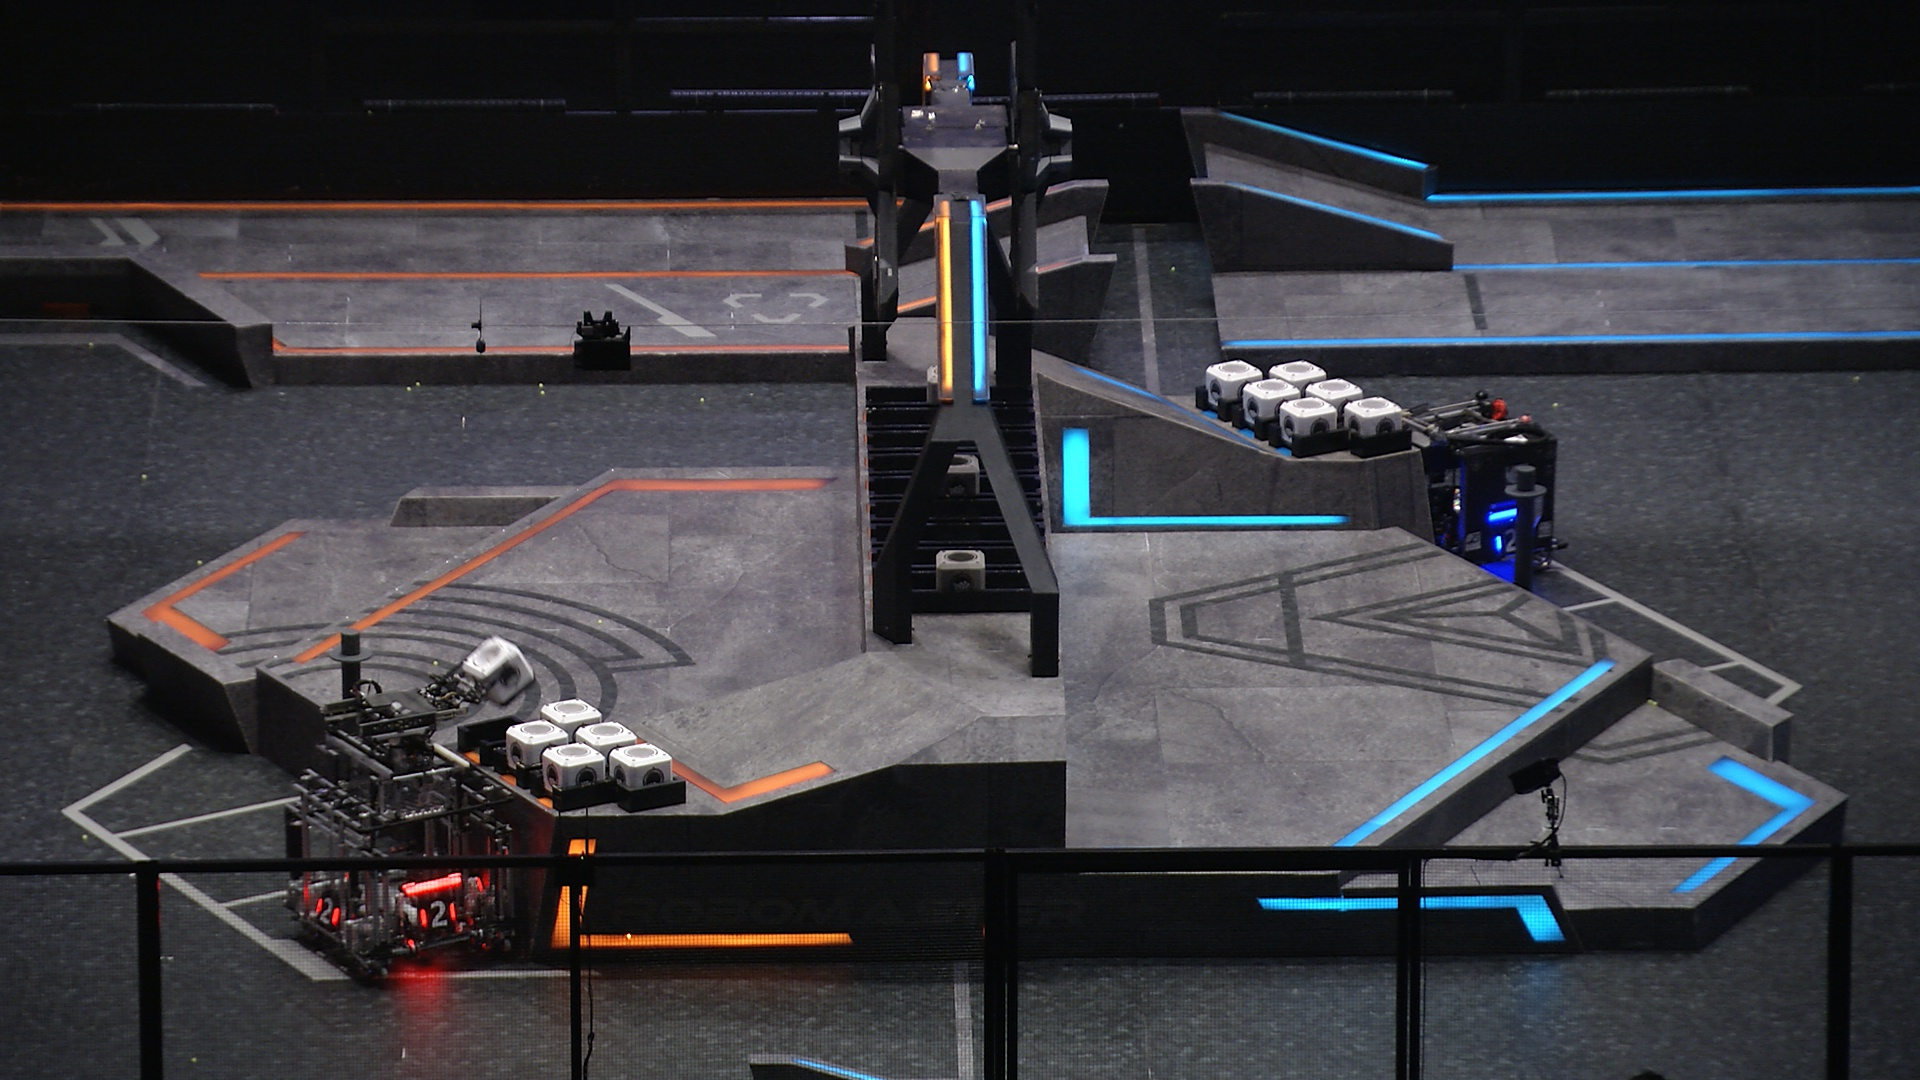armor: (415, 898, 460, 930), (310, 895, 348, 927), (1494, 526, 1520, 555)
car: (285, 694, 518, 972), (1393, 396, 1563, 571)
